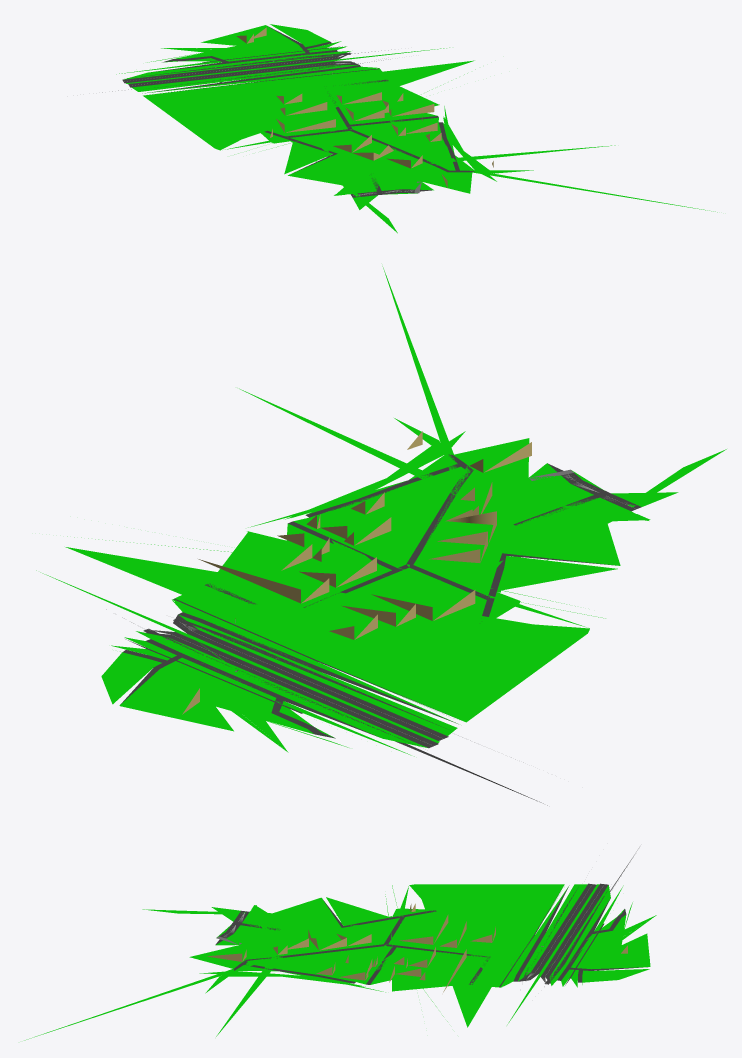
3 views of the same model, one above another, from view 1: azimuth 30°, elevation 25°; view 2: azimuth 150°, elevation 25°; view 3: azimuth 270°, elevation 25° (orthographic). The views are drawn at different scales.
Size of the model in its own units: 390 by 10.5 by 566.
